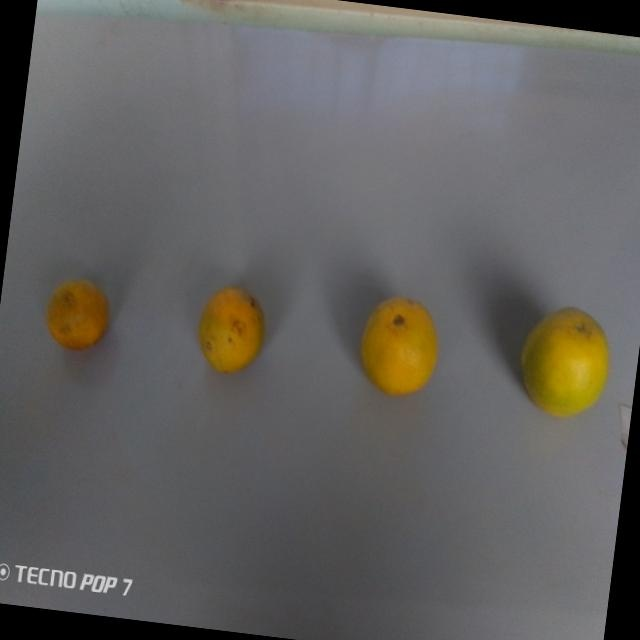agrume: (507, 291, 618, 429), (350, 283, 446, 405), (190, 273, 271, 385), (32, 267, 119, 361)
